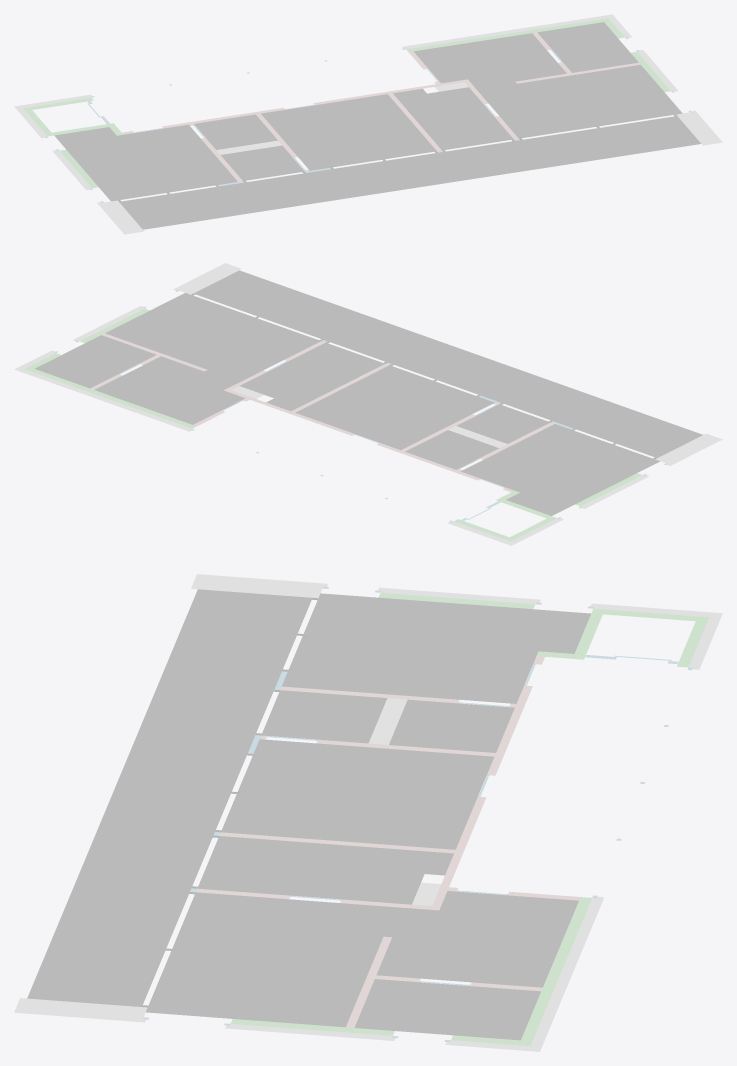
Rendered from floor-498650.glb.
3 views of the same model, one above another, from view 1: azimuth 30°, elevation 25°; view 2: azimuth 150°, elevation 25°; view 3: azimuth 270°, elevation 25° (orthographic). The views are drawn at different scales.
Visible parts, largest first — view 1: SectionBody_19,de89aea8-538b-4391-9850-51a45f310a7d, SectionBody_27,479ffe48-f63f-4cdc-9a29-5ed8d2618c3d, SectionBody_11,158cad23-91ba-4ef1-ae7e-258570cedbbe, SectionBody_15,beefb470-fe1f-400e-a017-4379c297e920, SectionBody_74,dba8de76-29e1-4d64-a096-d0c128a51ff9, SectionBody_79,0297b300-e6d4-4720-a0ce-df3d1cfc16de, SectionBody_0,5cb63768-c57b-4bab-b736-06cb00baeb3b, SectionBody_39,882e43d4-1f59-4184-a4f0-7ba0577b3e58, SectionBody_14,54732cdd-1e45-4bc9-8f35-411170b774ea, SectionBody_38,92661b3a-fcdb-42f5-9150-bac843ed632c, SectionBody_26,92661b3a-fcdb-42f5-9150-bac843ed632c, SectionBody_4,4ecf0550-45c0-4ded-8eb9-6f0e435f92f0 (+8 smaller); view 2: SectionBody_19,de89aea8-538b-4391-9850-51a45f310a7d, SectionBody_27,479ffe48-f63f-4cdc-9a29-5ed8d2618c3d, SectionBody_11,158cad23-91ba-4ef1-ae7e-258570cedbbe, SectionBody_15,beefb470-fe1f-400e-a017-4379c297e920, SectionBody_74,dba8de76-29e1-4d64-a096-d0c128a51ff9, SectionBody_79,0297b300-e6d4-4720-a0ce-df3d1cfc16de, SectionBody_0,5cb63768-c57b-4bab-b736-06cb00baeb3b, SectionBody_14,54732cdd-1e45-4bc9-8f35-411170b774ea, SectionBody_39,882e43d4-1f59-4184-a4f0-7ba0577b3e58, SectionBody_38,92661b3a-fcdb-42f5-9150-bac843ed632c, SectionBody_26,92661b3a-fcdb-42f5-9150-bac843ed632c, SectionBody_4,4ecf0550-45c0-4ded-8eb9-6f0e435f92f0 (+6 smaller); view 3: SectionBody_19,de89aea8-538b-4391-9850-51a45f310a7d, SectionBody_27,479ffe48-f63f-4cdc-9a29-5ed8d2618c3d, SectionBody_11,158cad23-91ba-4ef1-ae7e-258570cedbbe, SectionBody_15,beefb470-fe1f-400e-a017-4379c297e920, SectionBody_74,dba8de76-29e1-4d64-a096-d0c128a51ff9, SectionBody_79,0297b300-e6d4-4720-a0ce-df3d1cfc16de, SectionBody_0,5cb63768-c57b-4bab-b736-06cb00baeb3b, SectionBody_14,54732cdd-1e45-4bc9-8f35-411170b774ea, SectionBody_39,882e43d4-1f59-4184-a4f0-7ba0577b3e58, SectionBody_38,92661b3a-fcdb-42f5-9150-bac843ed632c, SectionBody_26,92661b3a-fcdb-42f5-9150-bac843ed632c, SectionBody_51,aeb265a0-2cff-4c14-8703-f3e4c57c95e6 (+12 smaller).
Boxes of the visible parts, left/top/right/bottom form: SectionBody_19,de89aea8-538b-4391-9850-51a45f310a7d: left=119, top=116, right=700, bottom=229; SectionBody_27,479ffe48-f63f-4cdc-9a29-5ed8d2618c3d: left=477, top=64, right=682, bottom=138; SectionBody_11,158cad23-91ba-4ef1-ae7e-258570cedbbe: left=54, top=124, right=237, bottom=201; SectionBody_15,beefb470-fe1f-400e-a017-4379c297e920: left=261, top=94, right=436, bottom=170; SectionBody_74,dba8de76-29e1-4d64-a096-d0c128a51ff9: left=414, top=33, right=566, bottom=89; SectionBody_79,0297b300-e6d4-4720-a0ce-df3d1cfc16de: left=393, top=87, right=513, bottom=150; SectionBody_0,5cb63768-c57b-4bab-b736-06cb00baeb3b: left=537, top=22, right=638, bottom=72; SectionBody_39,882e43d4-1f59-4184-a4f0-7ba0577b3e58: left=194, top=114, right=277, bottom=149; SectionBody_14,54732cdd-1e45-4bc9-8f35-411170b774ea: left=221, top=145, right=304, bottom=180; SectionBody_38,92661b3a-fcdb-42f5-9150-bac843ed632c: left=21, top=14, right=614, bottom=108; SectionBody_26,92661b3a-fcdb-42f5-9150-bac843ed632c: left=30, top=18, right=610, bottom=109; SectionBody_4,4ecf0550-45c0-4ded-8eb9-6f0e435f92f0: left=122, top=80, right=464, bottom=134; SectionBody_19,de89aea8-538b-4391-9850-51a45f310a7d: left=193, top=270, right=702, bottom=457; SectionBody_27,479ffe48-f63f-4cdc-9a29-5ed8d2618c3d: left=105, top=293, right=320, bottom=381; SectionBody_11,158cad23-91ba-4ef1-ae7e-258570cedbbe: left=461, top=424, right=659, bottom=515; SectionBody_15,beefb470-fe1f-400e-a017-4379c297e920: left=295, top=365, right=494, bottom=450; SectionBody_74,dba8de76-29e1-4d64-a096-d0c128a51ff9: left=95, top=356, right=245, bottom=424; SectionBody_79,0297b300-e6d4-4720-a0ce-df3d1cfc16de: left=240, top=342, right=384, bottom=411; SectionBody_0,5cb63768-c57b-4bab-b736-06cb00baeb3b: left=35, top=335, right=156, bottom=388; SectionBody_14,54732cdd-1e45-4bc9-8f35-411170b774ea: left=456, top=404, right=550, bottom=443; SectionBody_39,882e43d4-1f59-4184-a4f0-7ba0577b3e58: left=405, top=430, right=498, bottom=469; SectionBody_38,92661b3a-fcdb-42f5-9150-bac843ed632c: left=14, top=367, right=509, bottom=543; SectionBody_26,92661b3a-fcdb-42f5-9150-bac843ed632c: left=24, top=367, right=509, bottom=539; SectionBody_4,4ecf0550-45c0-4ded-8eb9-6f0e435f92f0: left=228, top=390, right=514, bottom=492; SectionBody_19,de89aea8-538b-4391-9850-51a45f310a7d: left=27, top=589, right=312, bottom=1006; SectionBody_27,479ffe48-f63f-4cdc-9a29-5ed8d2618c3d: left=146, top=892, right=395, bottom=1027; SectionBody_11,158cad23-91ba-4ef1-ae7e-258570cedbbe: left=281, top=593, right=590, bottom=703; SectionBody_15,beefb470-fe1f-400e-a017-4379c297e920: left=221, top=739, right=494, bottom=849; SectionBody_74,dba8de76-29e1-4d64-a096-d0c128a51ff9: left=376, top=891, right=578, bottom=987; SectionBody_79,0297b300-e6d4-4720-a0ce-df3d1cfc16de: left=197, top=836, right=453, bottom=904; SectionBody_0,5cb63768-c57b-4bab-b736-06cb00baeb3b: left=354, top=979, right=540, bottom=1040; SectionBody_14,54732cdd-1e45-4bc9-8f35-411170b774ea: left=261, top=690, right=387, bottom=743; SectionBody_39,882e43d4-1f59-4184-a4f0-7ba0577b3e58: left=389, top=699, right=514, bottom=752; SectionBody_38,92661b3a-fcdb-42f5-9150-bac843ed632c: left=528, top=617, right=720, bottom=1051; SectionBody_26,92661b3a-fcdb-42f5-9150-bac843ed632c: left=519, top=621, right=706, bottom=1045; SectionBody_51,aeb265a0-2cff-4c14-8703-f3e4c57c95e6: left=14, top=998, right=147, bottom=1022.
Size of the model in its own units: 19203 by 0 by 12040.
